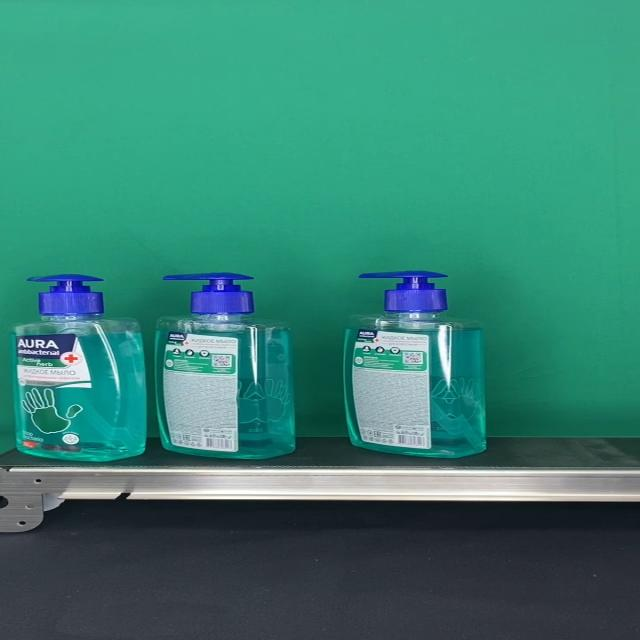Bottle: (341, 270, 487, 458), (8, 274, 148, 462), (154, 272, 295, 458)
Cap: (163, 272, 255, 315), (358, 270, 449, 312), (24, 273, 104, 314)
